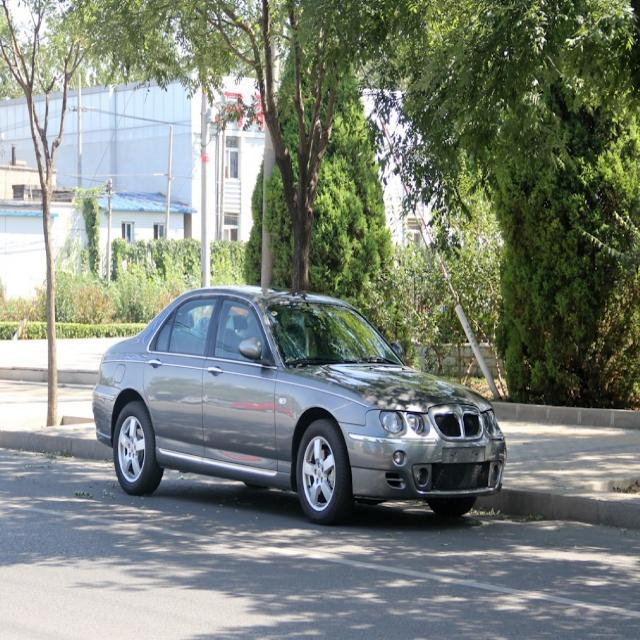door: (147, 294, 220, 464)
front_bumper: (336, 408, 508, 500)
front_glass: (266, 300, 402, 369)
front_left_side_light: (482, 409, 498, 433)
front_left_side_mirror: (389, 339, 404, 361)
front_right_side_door: (200, 294, 279, 476)
front_right_side_light: (379, 409, 429, 439)
front_right_side_mirror: (238, 335, 263, 362)
wheel: (295, 419, 345, 524), (113, 402, 153, 496)
